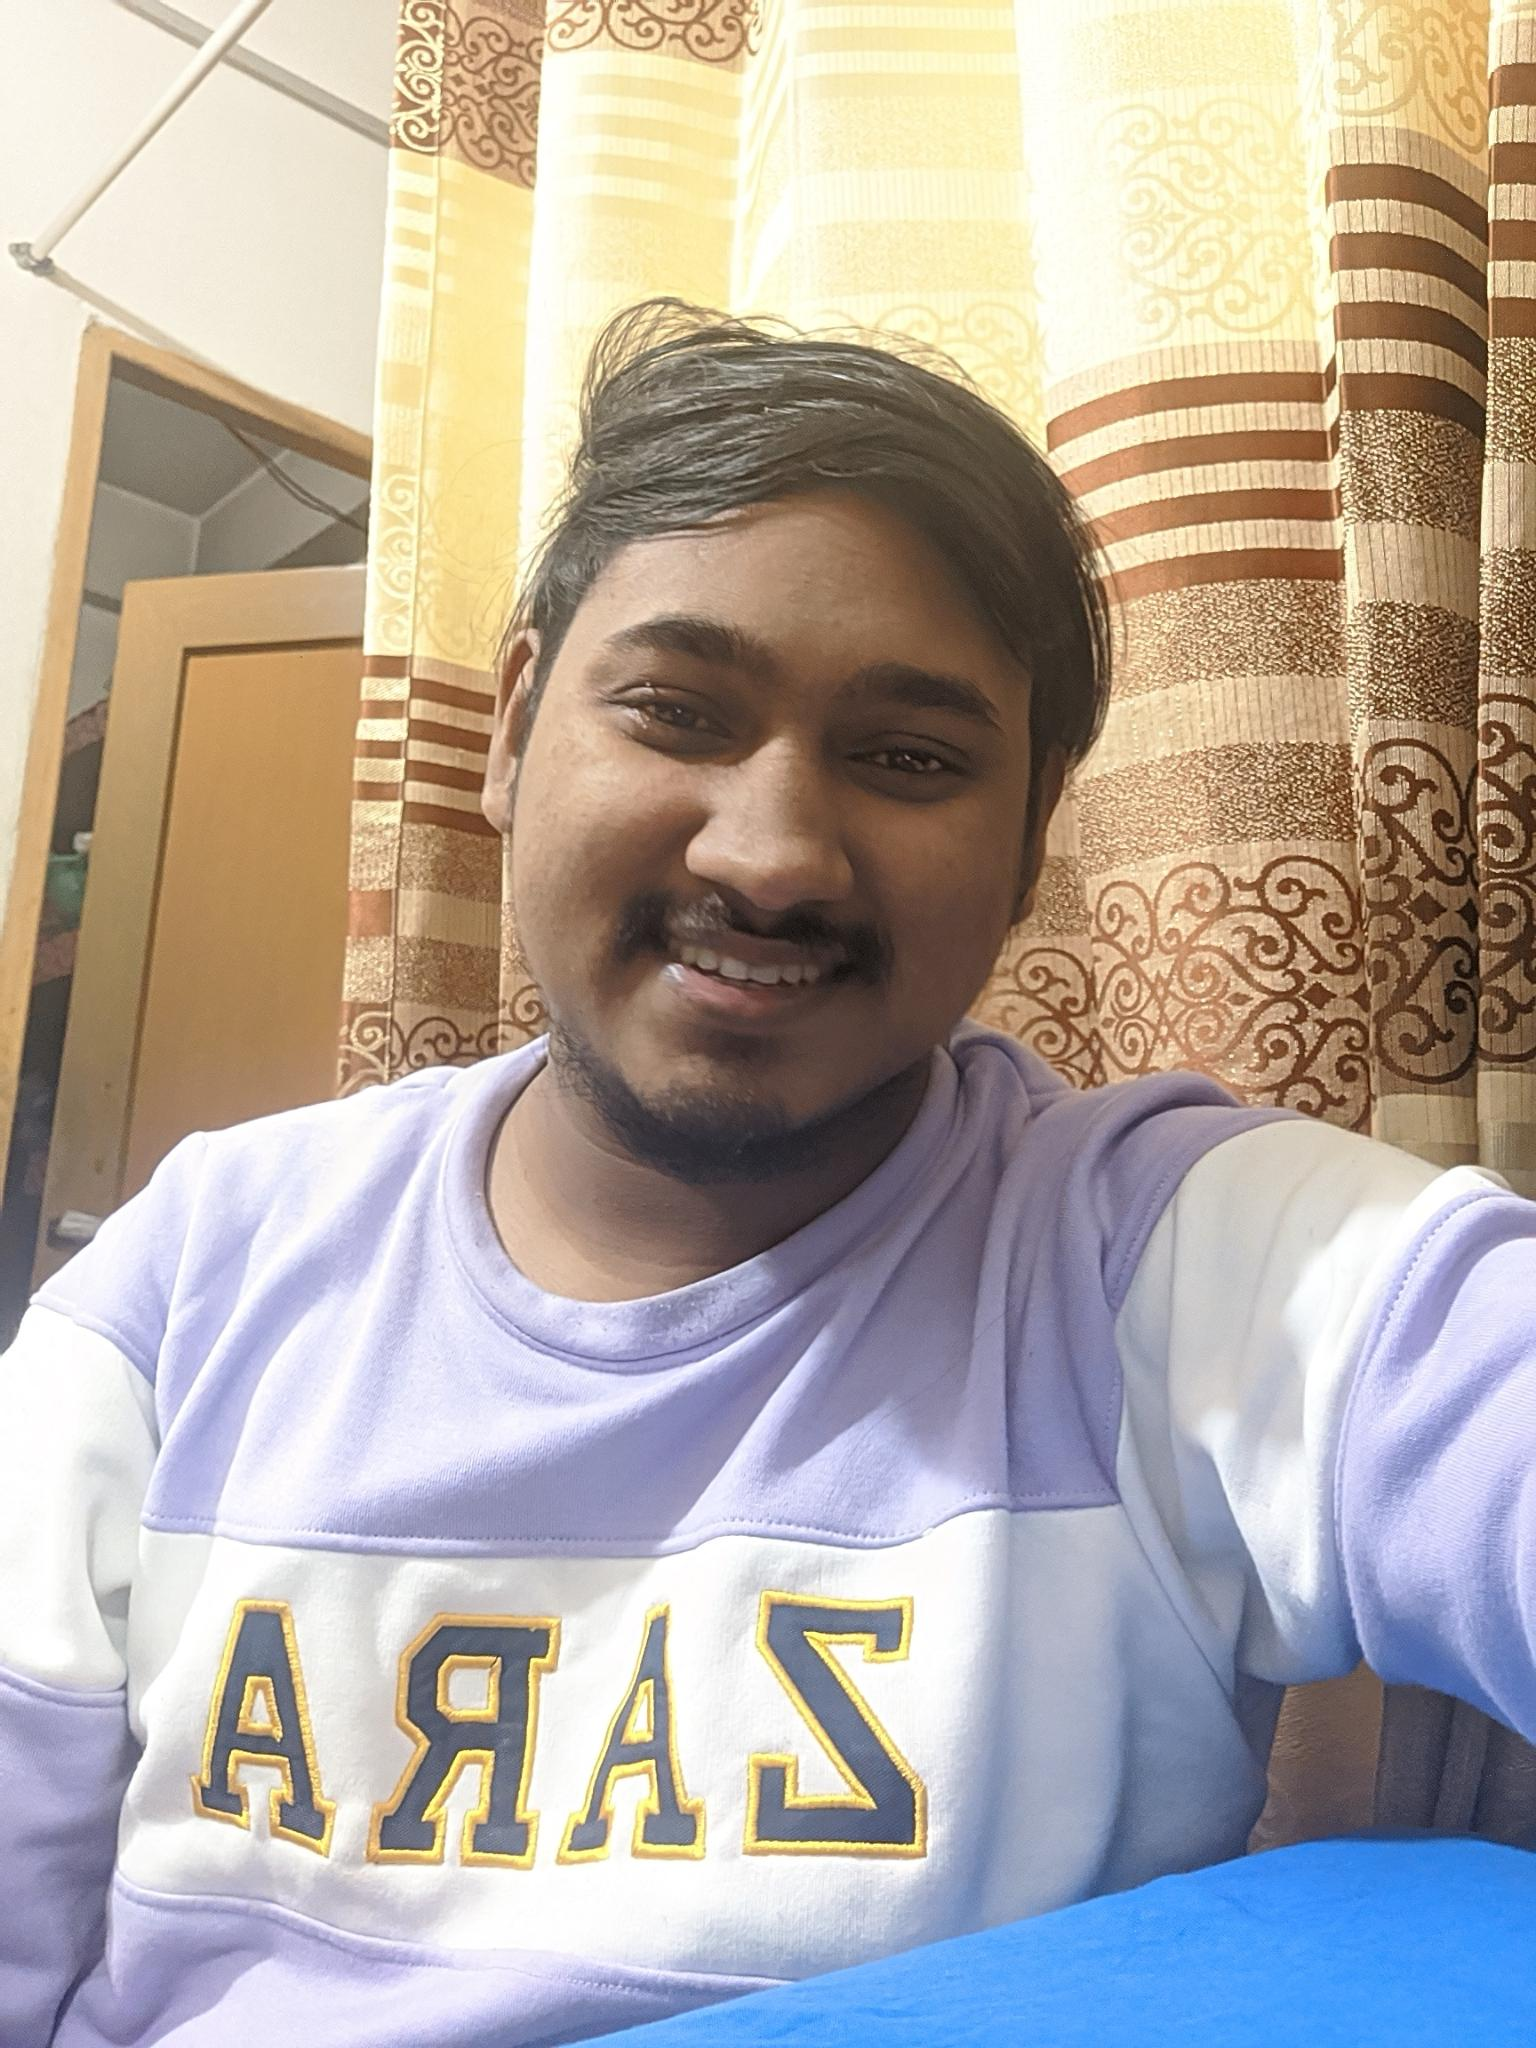Happy: (547, 529, 1020, 1108)
